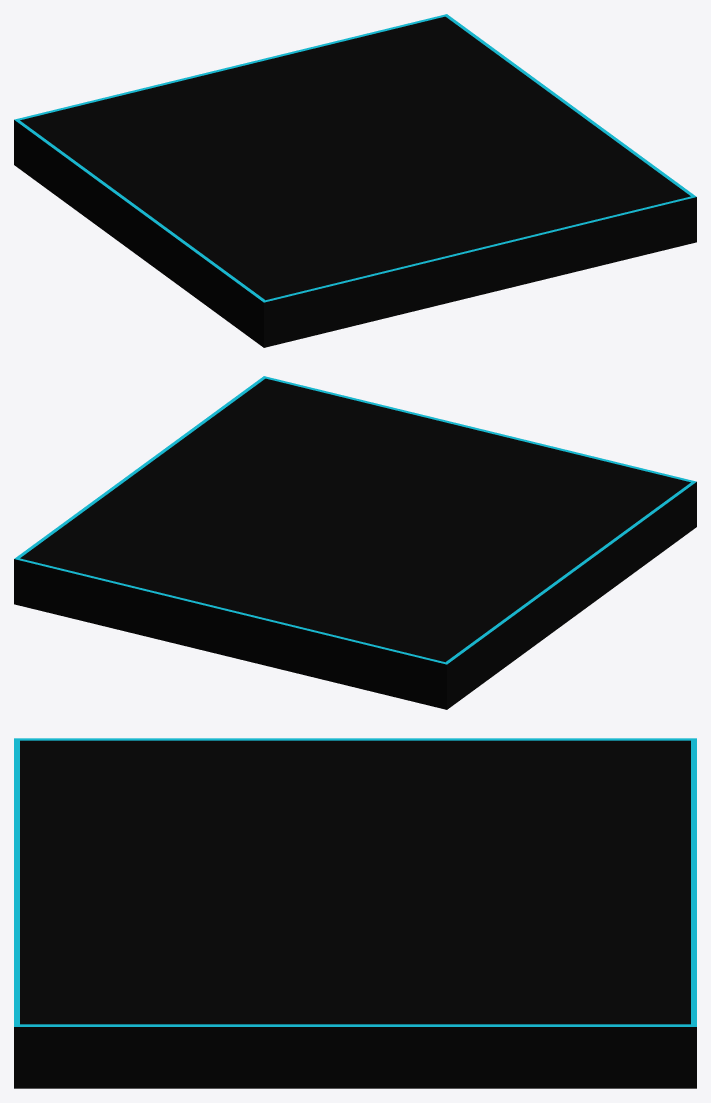
File: FloorPlate.glb
3 views of the same model, one above another, from view 1: azimuth 30°, elevation 25°; view 2: azimuth 150°, elevation 25°; view 3: azimuth 270°, elevation 25° (orthographic). The views are drawn at different scales.
Parts seen in each view (by area): view 1: Plate; view 2: Plate; view 3: Plate.
Boxes of the visible parts, x1,y1,x2,y2 form: Plate: (14, 14, 696, 347); Plate: (14, 376, 696, 709); Plate: (14, 738, 696, 1088).
Size of the model in its own units: 2 by 0.2 by 2.
